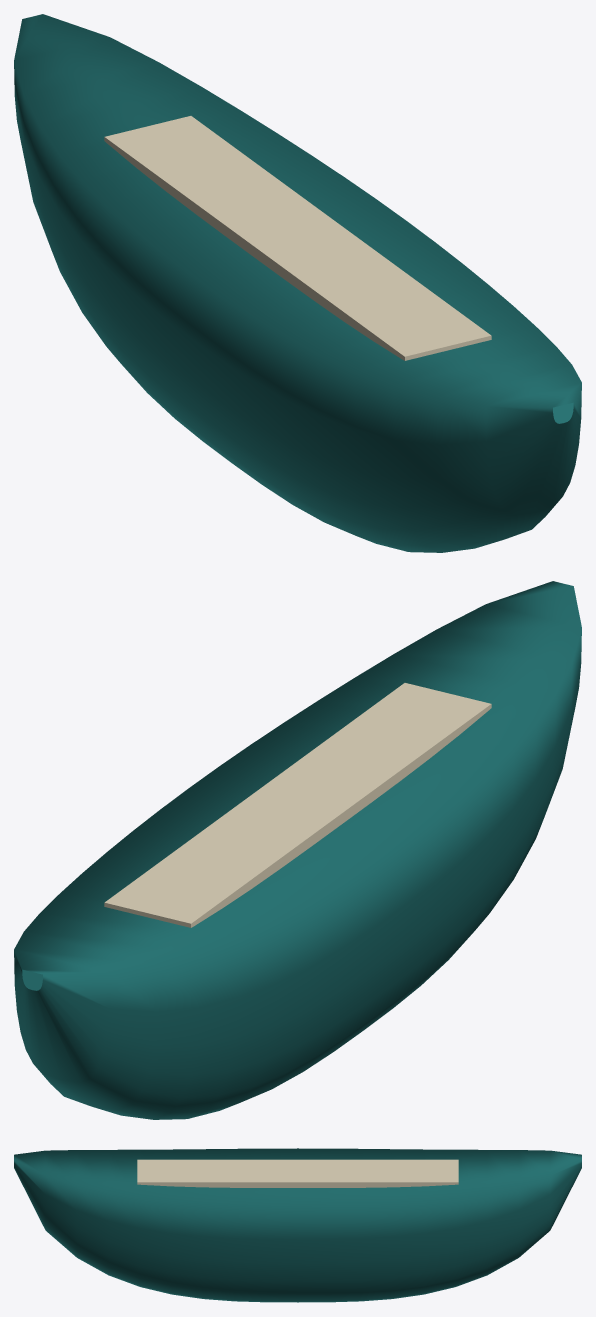
File: k1_psu.obj
The picture shows the model from 3 angles, top to bottom: view 1: azimuth 30°, elevation 25°; view 2: azimuth 150°, elevation 25°; view 3: azimuth 270°, elevation 25°; orthographic projection. The views are drawn at different scales.
Visible parts, largest first — view 1: k1_psu; view 2: k1_psu; view 3: k1_psu.
Boxes of the visible parts, box(x1,y1,x2,y2) form: k1_psu: box(14, 14, 581, 552); k1_psu: box(14, 581, 581, 1119); k1_psu: box(14, 1148, 581, 1302).
Size of the model in its own units: 0.25 by 0.28 by 1.06.
